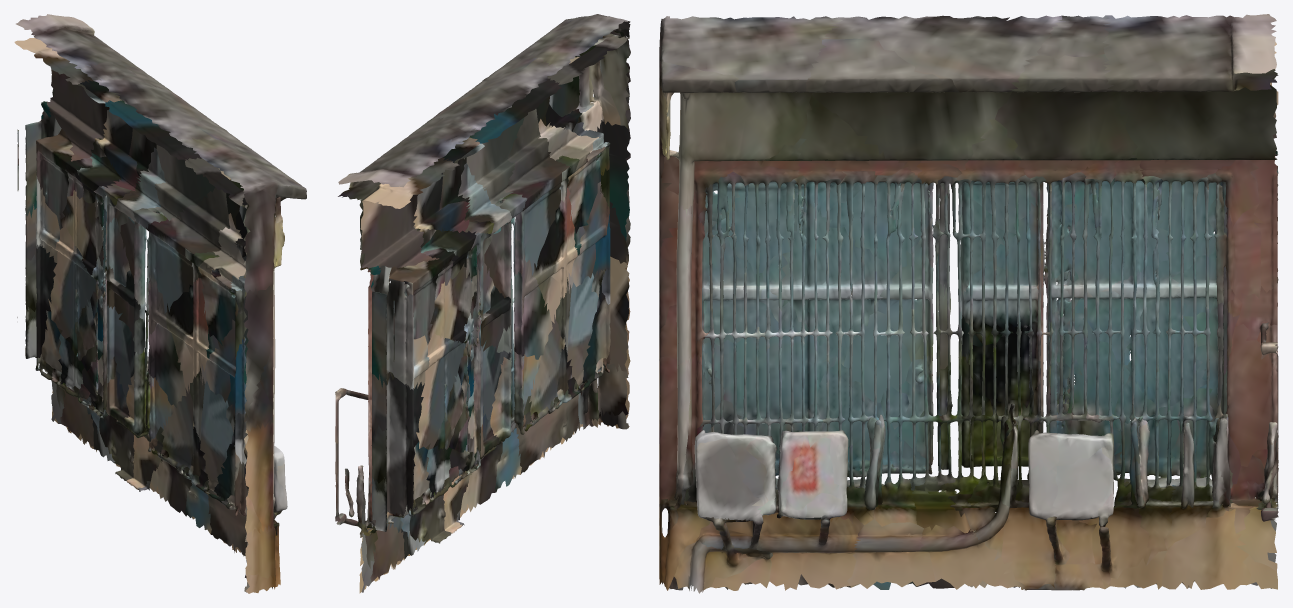
The picture shows the model from 3 angles, left to right: view 1: azimuth 30°, elevation 25°; view 2: azimuth 150°, elevation 25°; view 3: azimuth 270°, elevation 25°; orthographic projection. The views are drawn at different scales.
Parts seen in each view (by area): view 1: Meshy_AI_Urban_Corner_Abode_0106045334_texture; view 2: Meshy_AI_Urban_Corner_Abode_0106045334_texture; view 3: Meshy_AI_Urban_Corner_Abode_0106045334_texture.
Boxes of the visible parts, x1,y1,x2,y2 form: Meshy_AI_Urban_Corner_Abode_0106045334_texture: [14, 14, 306, 593]; Meshy_AI_Urban_Corner_Abode_0106045334_texture: [335, 14, 630, 593]; Meshy_AI_Urban_Corner_Abode_0106045334_texture: [659, 14, 1278, 593].
Size of the model in its own units: 0.1841 by 1.08 by 1.1.
Materials: 1 (1 with a texture image).
